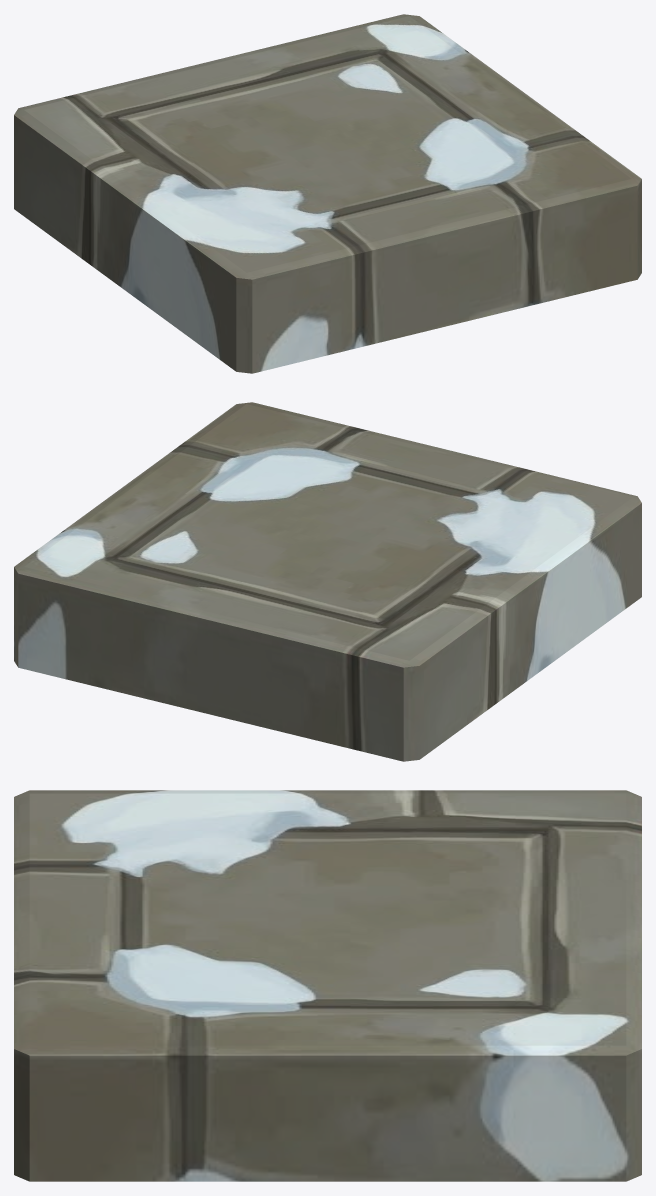
The model's file is stoneTiles09.glb.
3 views of the same model, one above another, from view 1: azimuth 30°, elevation 25°; view 2: azimuth 150°, elevation 25°; view 3: azimuth 270°, elevation 25° (orthographic). The views are drawn at different scales.
Visible parts, largest first — view 1: StoneTiles09; view 2: StoneTiles09; view 3: StoneTiles09.
Part boxes in pixels (x1,y1,x2,y2): StoneTiles09: (14, 14, 641, 373); StoneTiles09: (14, 402, 641, 761); StoneTiles09: (14, 790, 641, 1181).
Bounding box in the file's own units: 3 × 0.7 × 3.
1 material, 1 textured.
